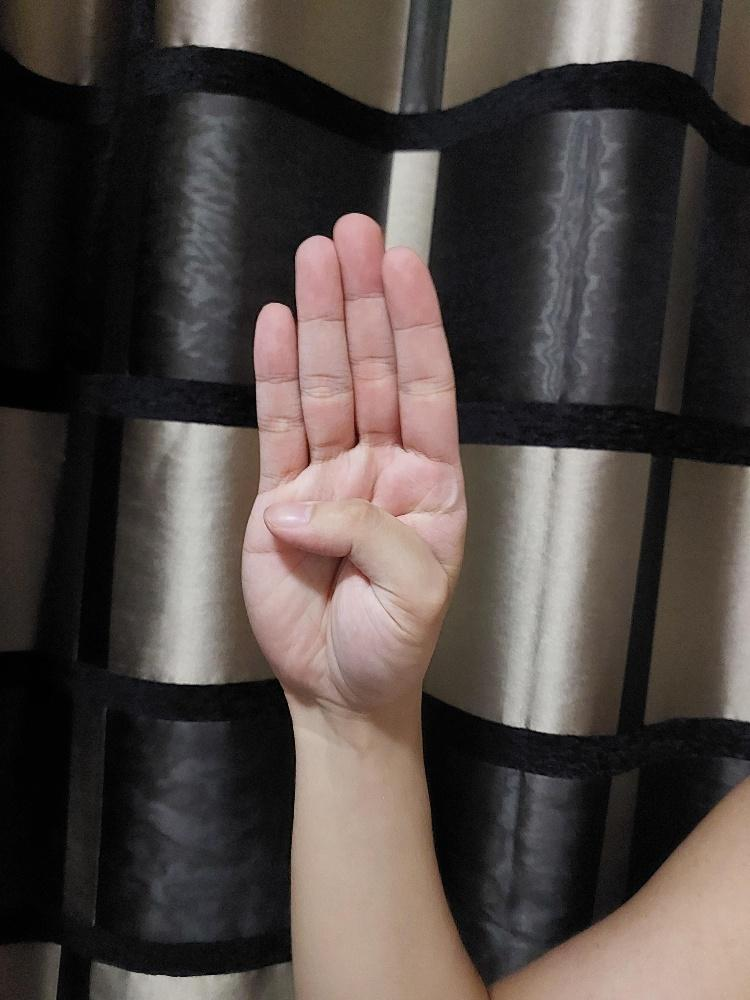b: (237, 210, 468, 713)
